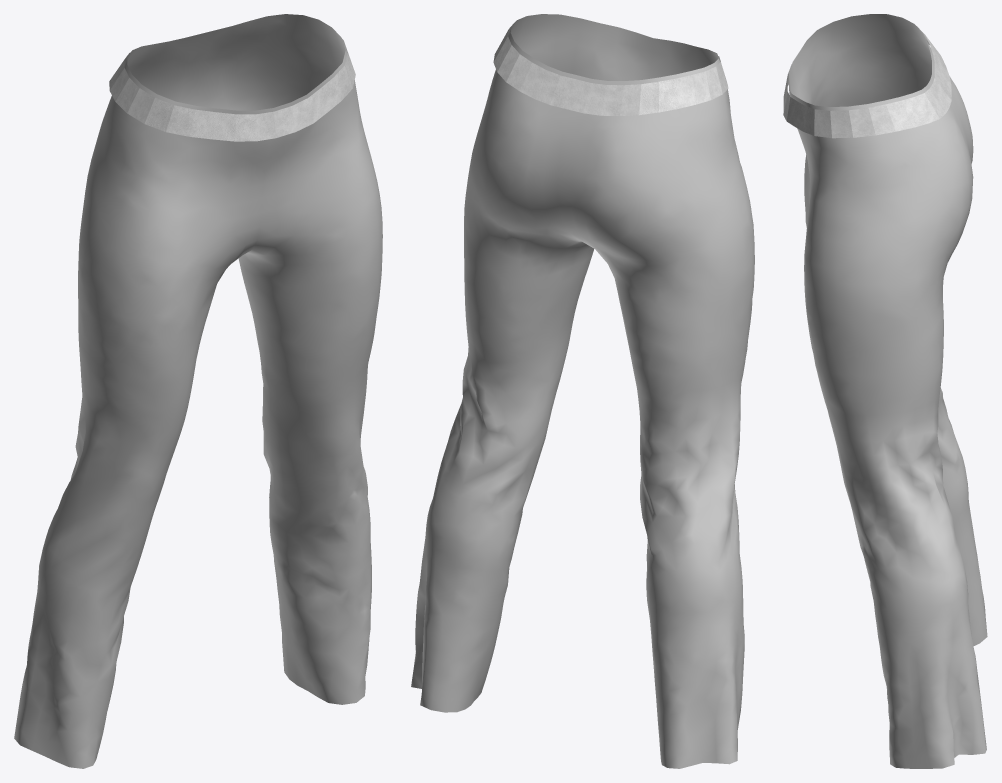
File: pants.glb
3 renders of one model, left to right at view 1: azimuth 30°, elevation 25°; view 2: azimuth 150°, elevation 25°; view 3: azimuth 270°, elevation 25°, orthographic. The views are drawn at different scales.
Parts seen in each view (by area): view 1: -Velvet pants and top., -Velvet pants and top..001; view 2: -Velvet pants and top., -Velvet pants and top..001; view 3: -Velvet pants and top., -Velvet pants and top..001.
Part boxes in pixels (x1,y1,x2,y2): -Velvet pants and top.: [14, 14, 382, 768]; -Velvet pants and top..001: [109, 39, 355, 141]; -Velvet pants and top.: [411, 14, 754, 768]; -Velvet pants and top..001: [493, 27, 728, 115]; -Velvet pants and top.: [789, 14, 987, 768]; -Velvet pants and top..001: [783, 26, 951, 138].
Bounding box in the file's own units: 0.4993 × 0.9745 × 0.2786.
Materials: 2 (1 with a texture image).
